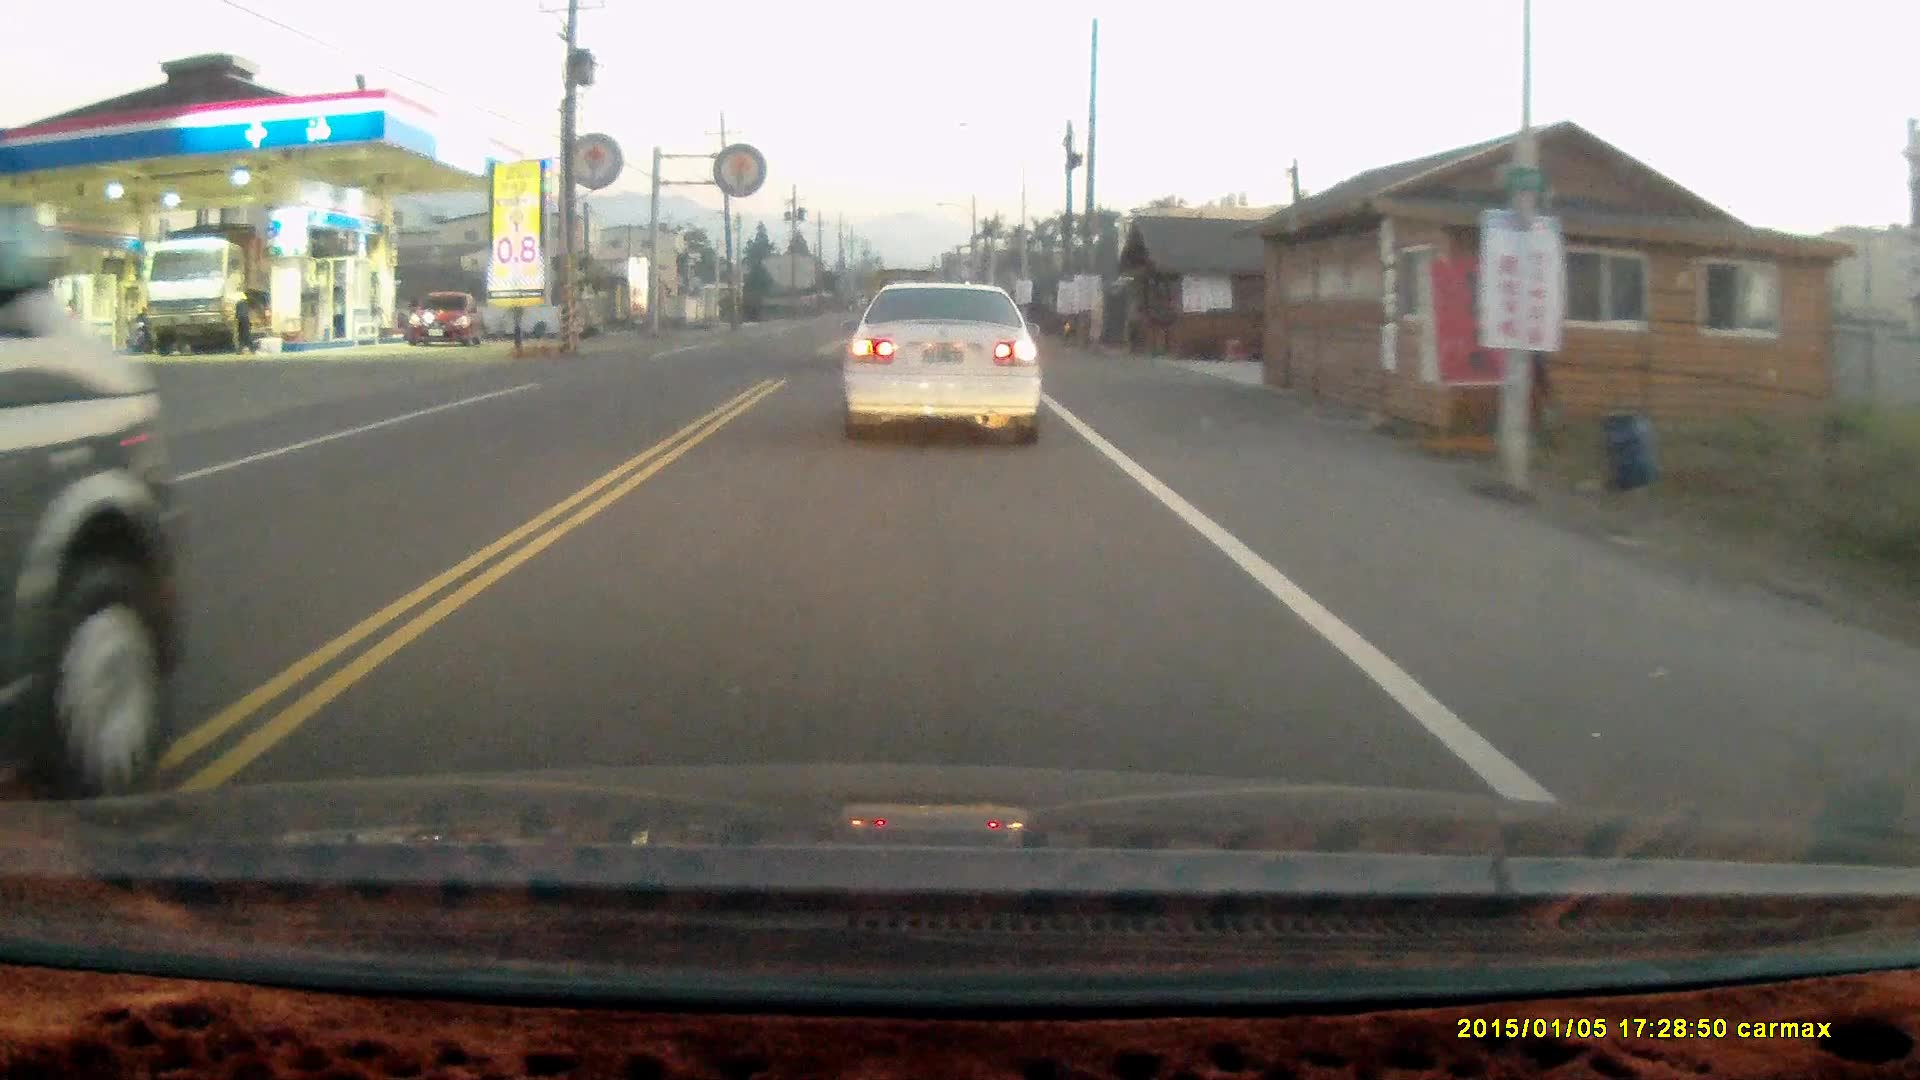pedestrian: (226, 282, 255, 355)
vehicle: (1, 211, 180, 817), (842, 280, 1048, 455), (142, 231, 267, 359), (406, 295, 487, 348)
